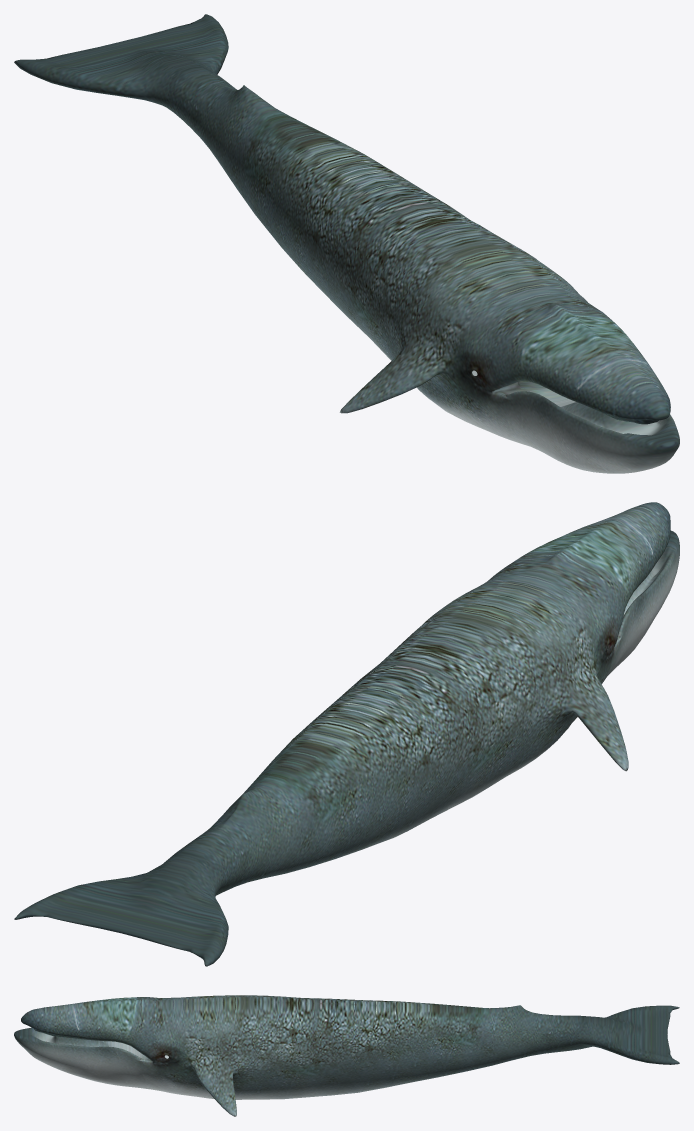
File: ballena.obj
The picture shows the model from 3 angles, top to bottom: view 1: azimuth 30°, elevation 25°; view 2: azimuth 150°, elevation 25°; view 3: azimuth 270°, elevation 25°; orthographic projection. The views are drawn at different scales.
Visible parts, largest first — view 1: blw_body; view 2: blw_body; view 3: blw_body.
Boxes of the visible parts, left/top/right/bottom form: blw_body: left=14, top=14, right=679, bottom=473; blw_body: left=14, top=502, right=679, bottom=966; blw_body: left=14, top=995, right=679, bottom=1116.
Bounding box in the file's own units: 46.01 × 25.34 × 156.
Materials: 1 (1 with a texture image).
